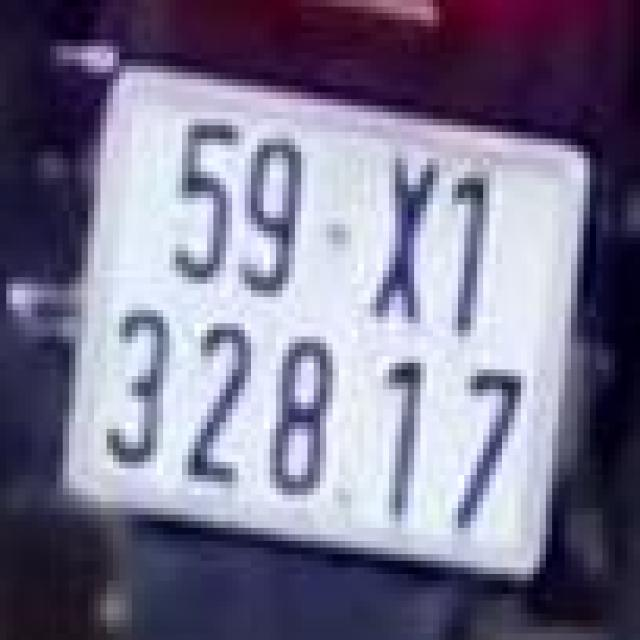1: (380, 356, 430, 528)
2: (185, 317, 254, 488)
3: (88, 297, 169, 482)
5: (163, 109, 245, 287)
7: (439, 356, 546, 548)
8: (270, 327, 345, 511)
9: (241, 122, 317, 307)
X: (364, 138, 445, 330), (448, 162, 492, 346)
